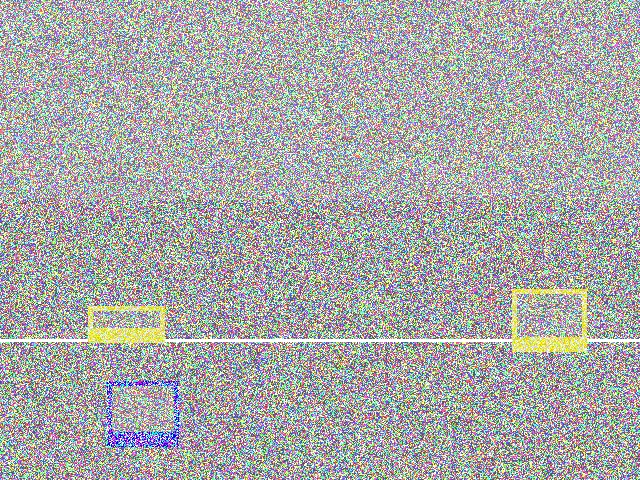car: (354, 366, 461, 441)
